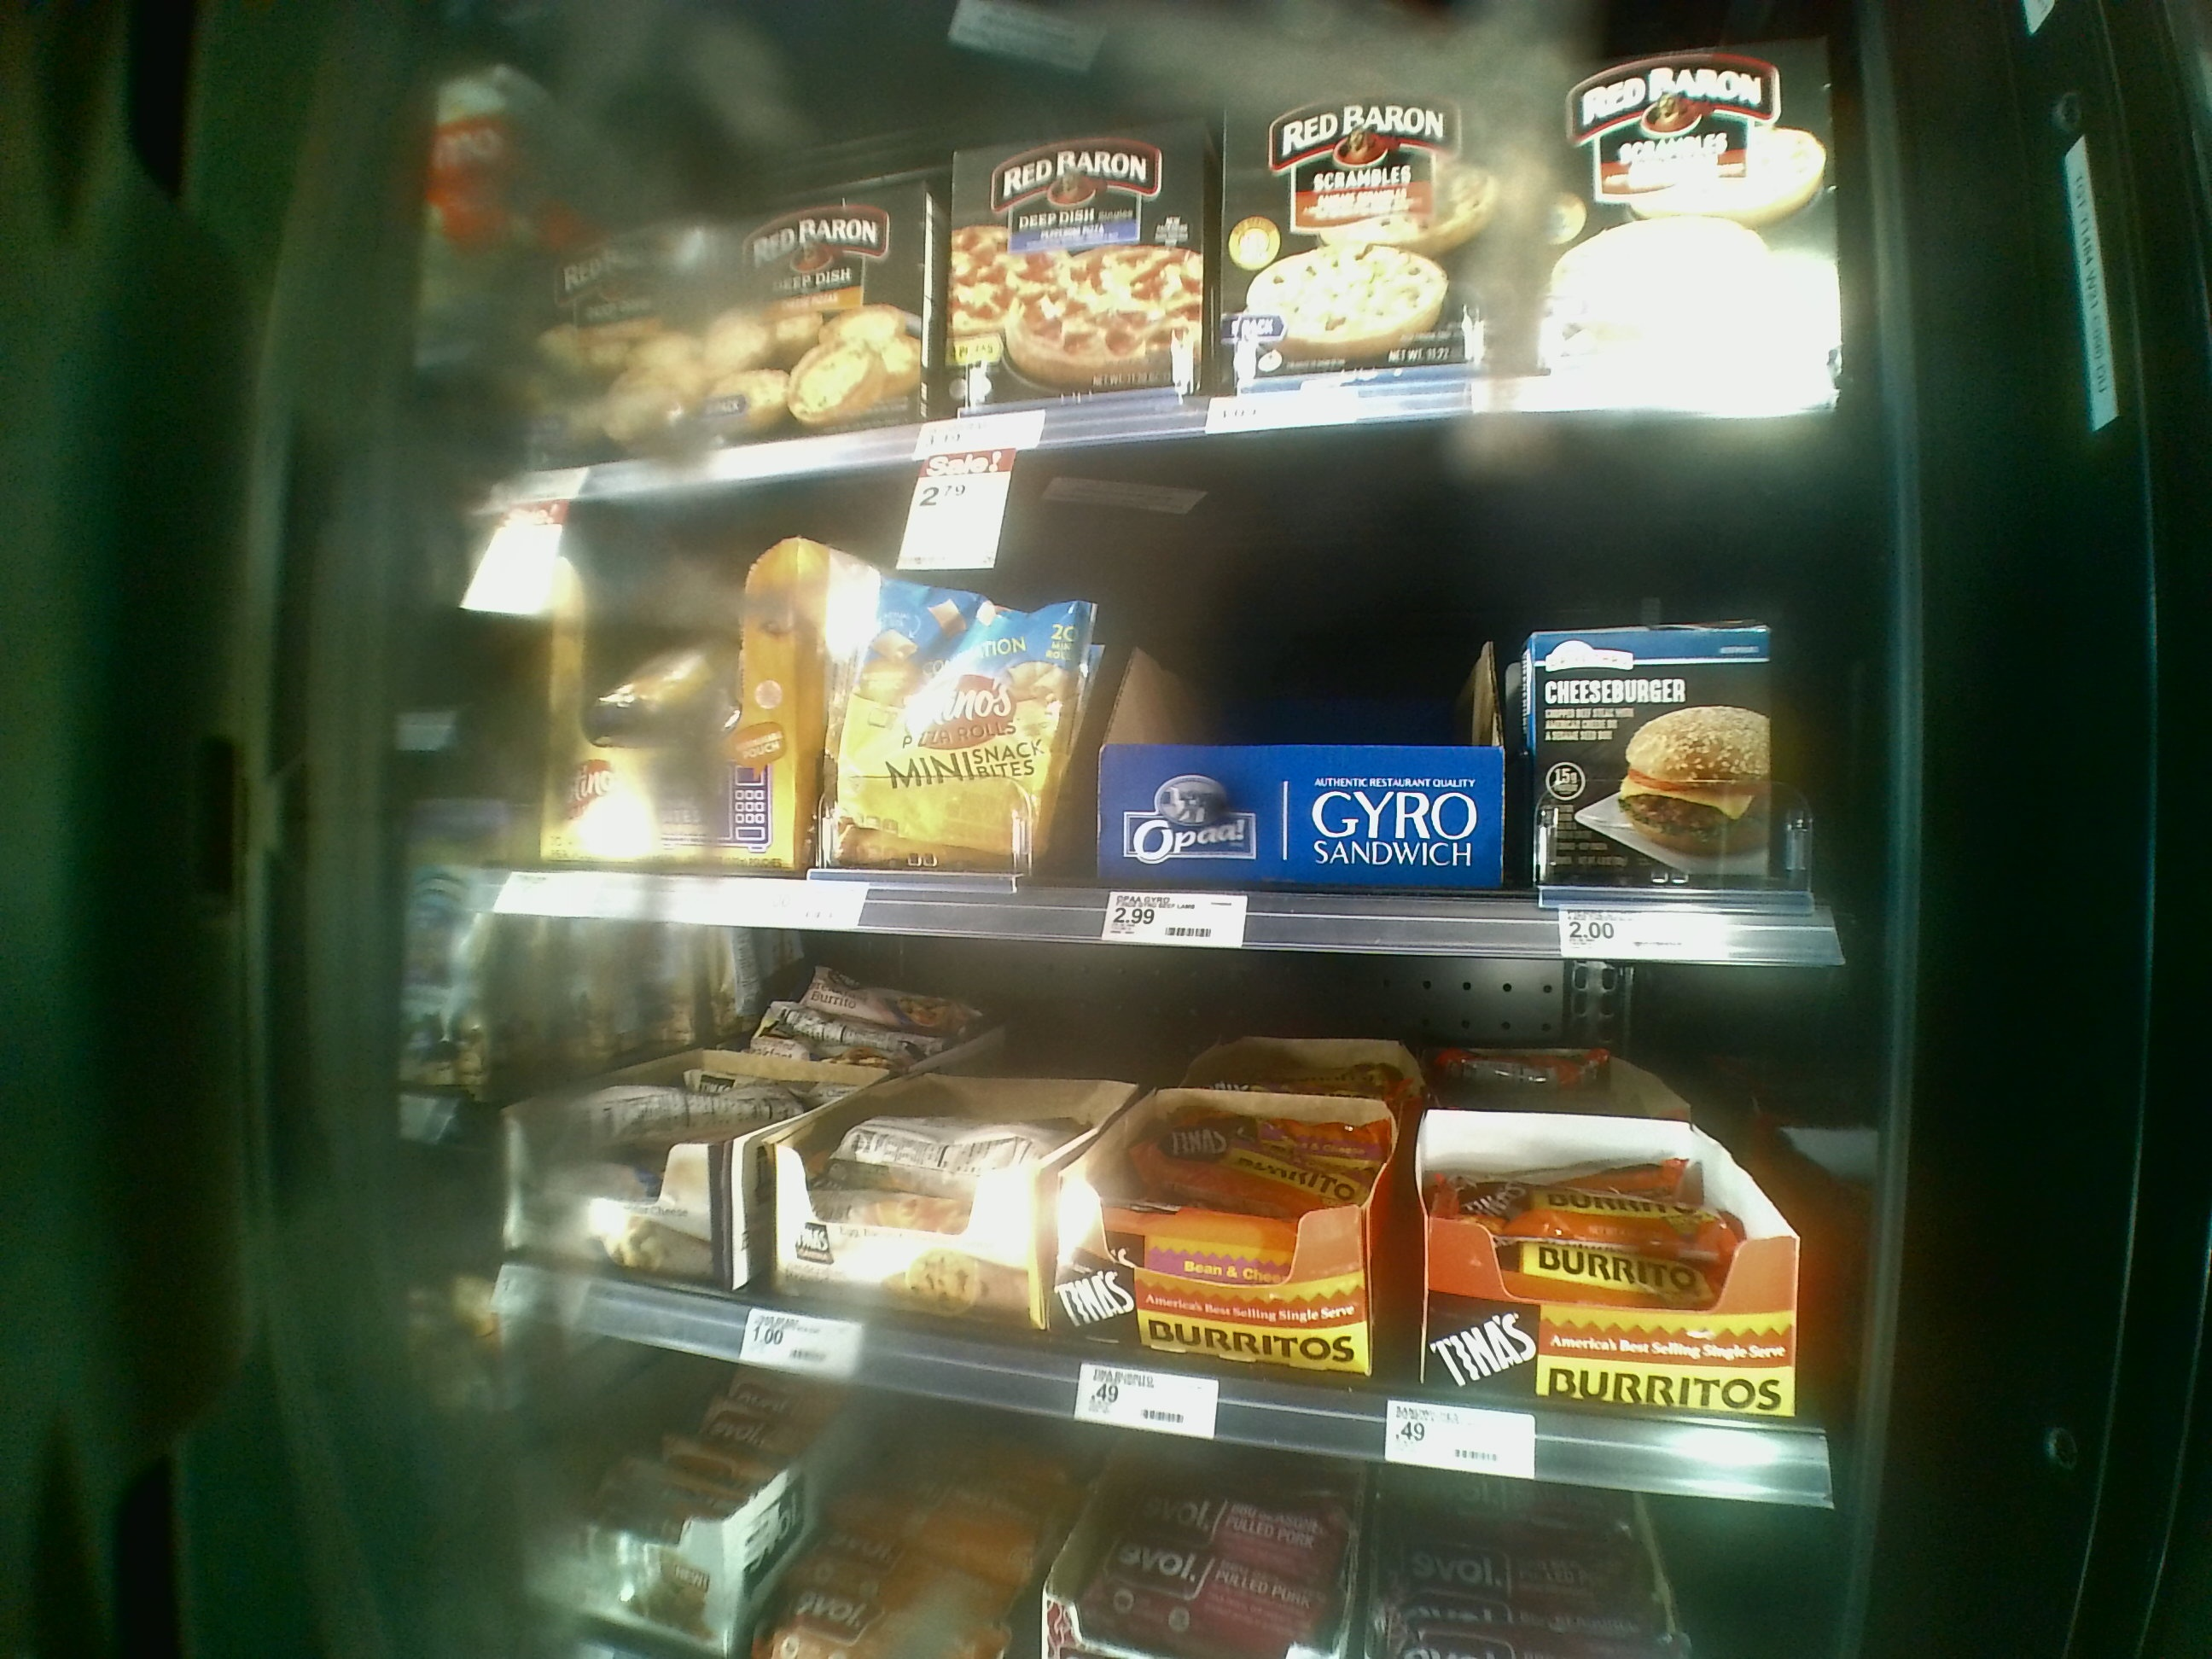shelf: (510, 936, 1867, 1457), (498, 471, 1876, 955), (489, 0, 1858, 471)
